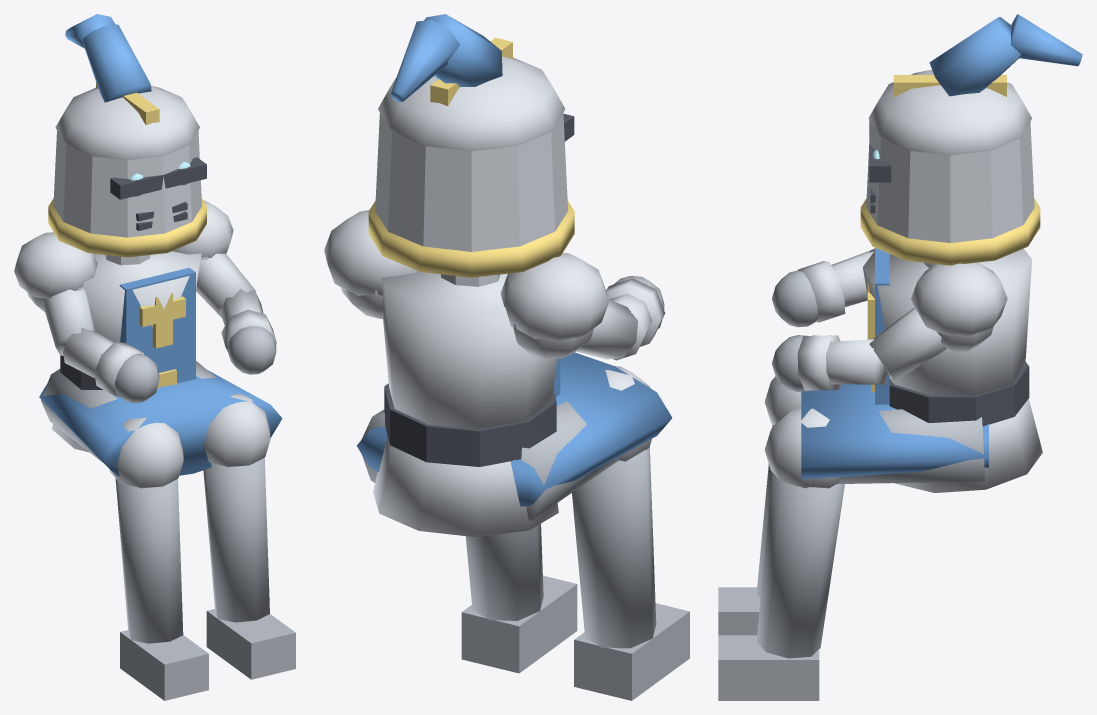
Rendered from meeple_08_ritter.glb.
3 views of the same model, side by side, from view 1: azimuth 30°, elevation 25°; view 2: azimuth 150°, elevation 25°; view 3: azimuth 270°, elevation 25° (orthographic). The views are drawn at different scales.
Visible parts, largest first — view 1: meeple_08_ritter; view 2: meeple_08_ritter; view 3: meeple_08_ritter.
Part boxes in pixels (bbox=[...]): meeple_08_ritter: bbox=[14, 14, 295, 700]; meeple_08_ritter: bbox=[324, 14, 689, 700]; meeple_08_ritter: bbox=[718, 14, 1082, 700].
Bounding box in the file's own units: 0.5468 × 1.45 × 0.7387.
